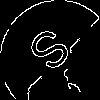S: (25, 25, 81, 81)
